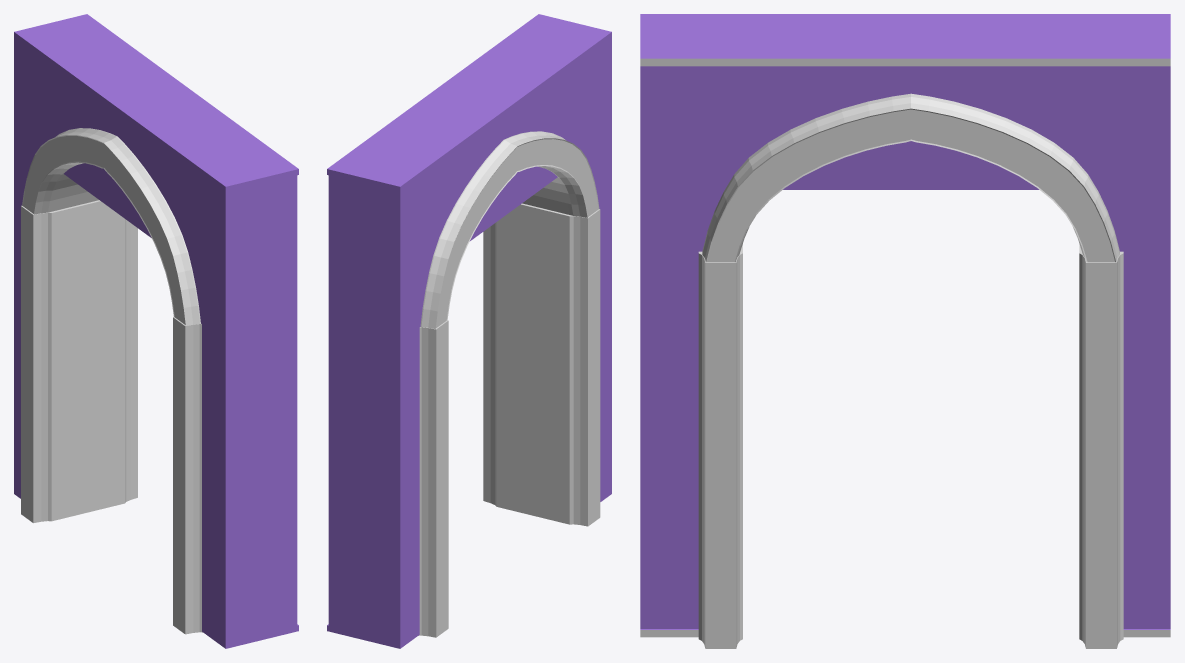
Rendered from Arch_WallH_DoorFrame.fbx.
The picture shows the model from 3 angles, left to right: view 1: azimuth 30°, elevation 25°; view 2: azimuth 150°, elevation 25°; view 3: azimuth 270°, elevation 25°; orthographic projection. The views are drawn at different scales.
Visible parts, largest first — view 1: WallH_Door, DoorFrame; view 2: WallH_Door, DoorFrame; view 3: WallH_Door, DoorFrame.
Part boxes in pixels (box(x1,y1,x2,y2)): WallH_Door: box(14, 14, 298, 648); DoorFrame: box(21, 128, 202, 634); WallH_Door: box(327, 14, 611, 648); DoorFrame: box(418, 131, 600, 637); WallH_Door: box(640, 14, 1170, 637); DoorFrame: box(698, 93, 1123, 648).
Bounding box in the file's own units: 80.58 × 341 × 282.
